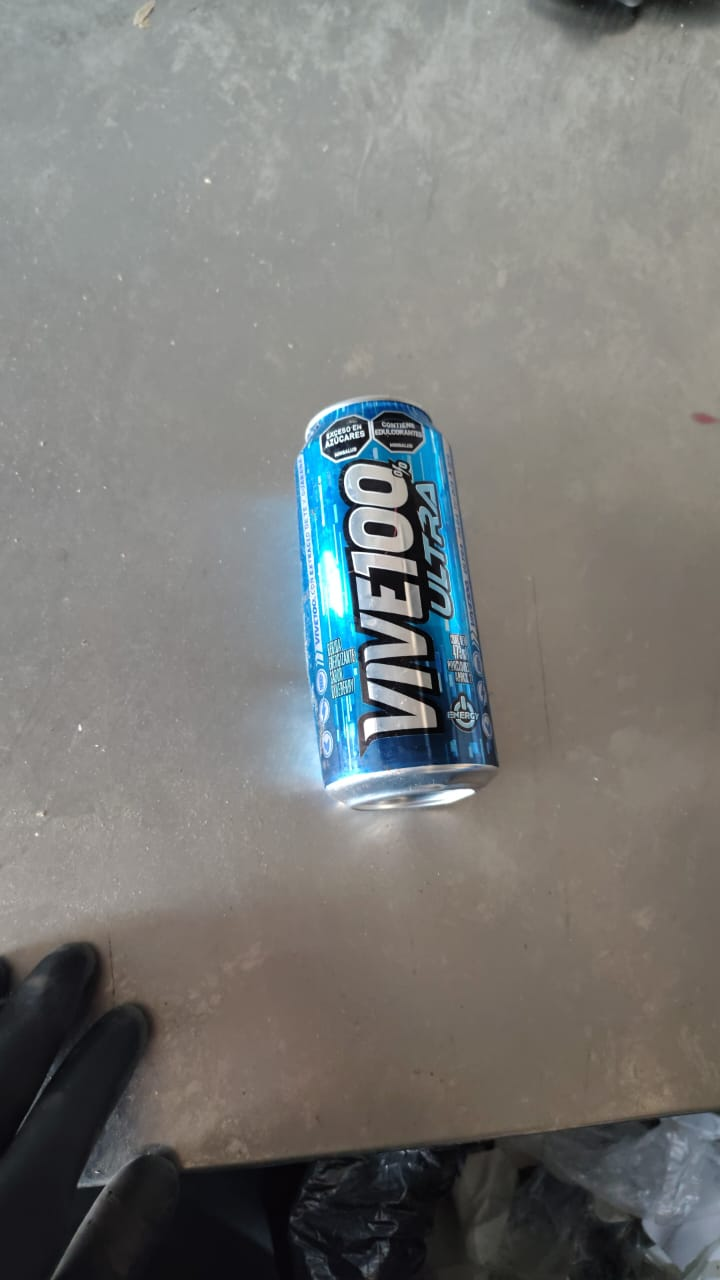Metal: (296, 396, 502, 807)
